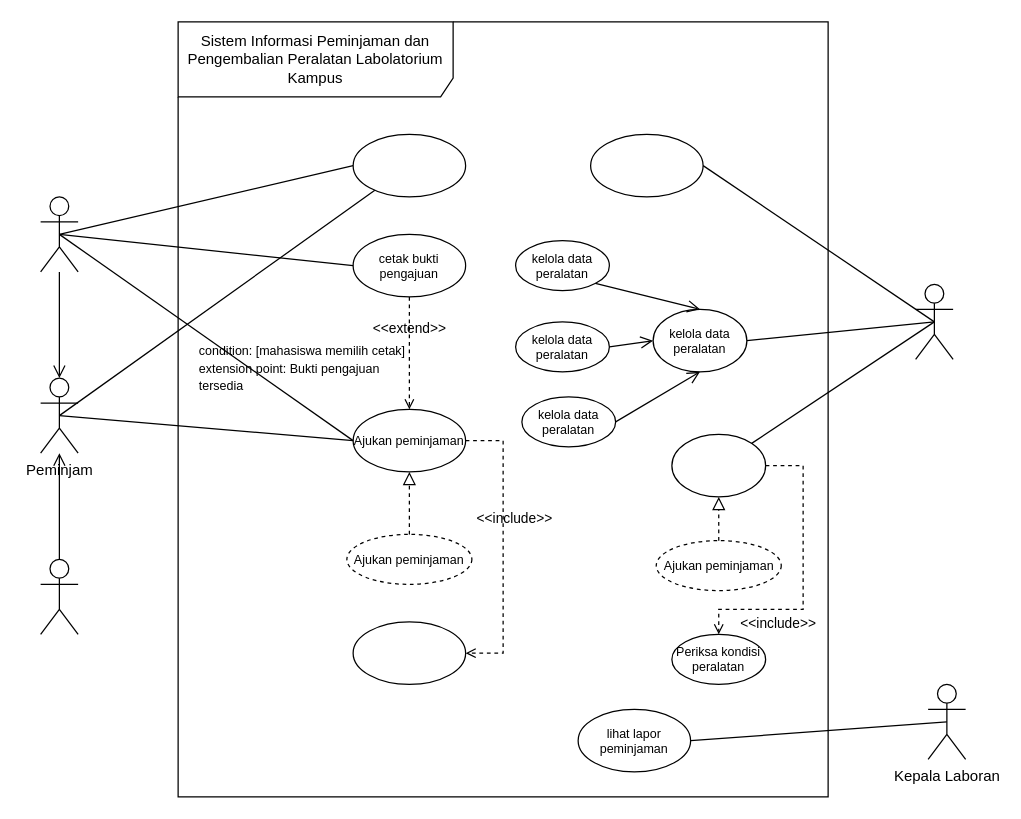
This 1021x819 diagram has some shape labels left out. Each missing label, with the box of its shape:
catat pengembalian peralatan: (671, 433, 766, 497)
Dosen: (39, 558, 78, 634)
Lihat ketersediaan peralatan: (352, 133, 466, 197)
Mahasiswa: (39, 196, 78, 272)
periksa ketersediaan: (352, 621, 466, 684)
Petugas Laboran: (914, 283, 953, 359)
proses keputusan peminjaman: (589, 133, 703, 197)
